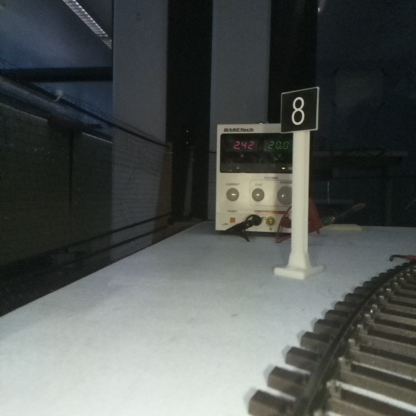black-info-8: (281, 93, 317, 274)
